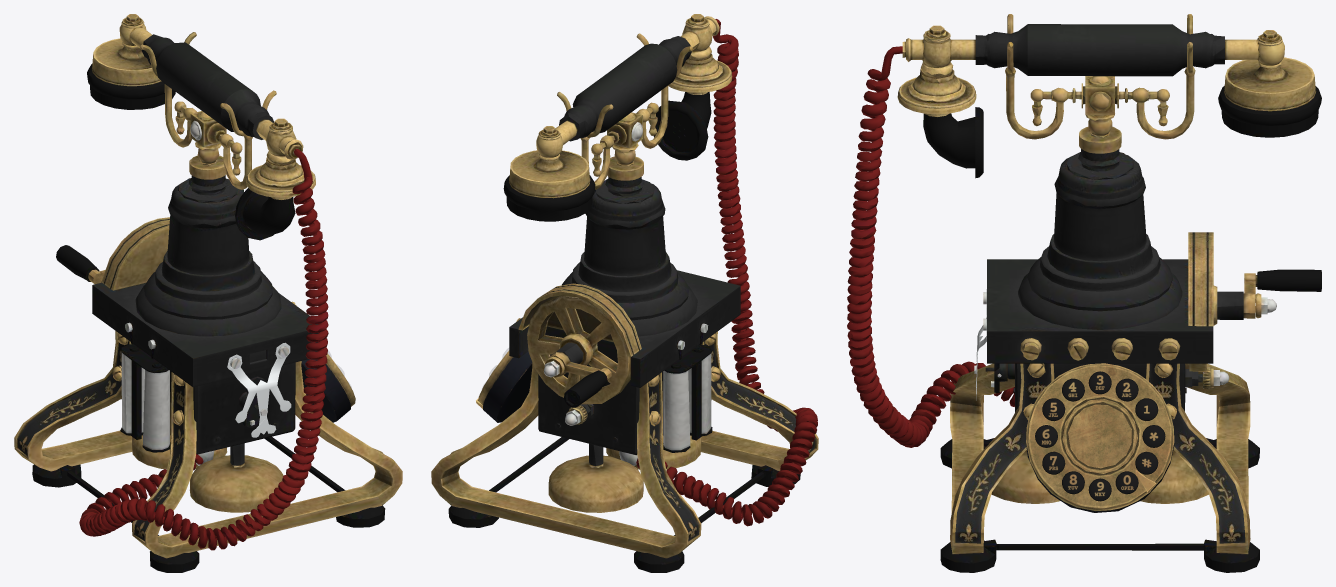
The model's file is telephone-candlestick.glb.
The picture shows the model from 3 angles, left to right: view 1: azimuth 30°, elevation 25°; view 2: azimuth 150°, elevation 25°; view 3: azimuth 270°, elevation 25°; orthographic projection. The views are drawn at different scales.
Parts seen in each view (by area): view 1: telephone-candlestick; view 2: telephone-candlestick; view 3: telephone-candlestick.
Boxes of the visible parts, bbox=[...] form: telephone-candlestick: bbox=[14, 14, 402, 572]; telephone-candlestick: bbox=[431, 14, 818, 572]; telephone-candlestick: bbox=[847, 14, 1321, 572].
Bounding box in the file's own units: 0.2128 × 0.32 × 0.2839.
4 materials, 4 textured.
